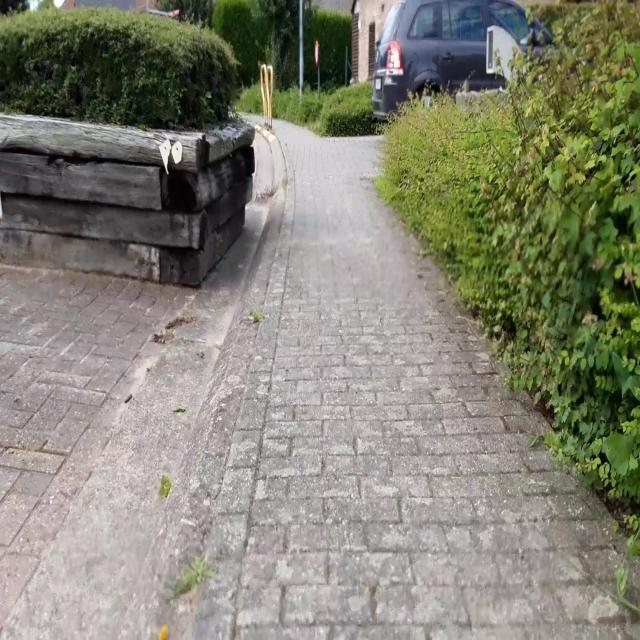Automobile: (373, 0, 551, 118)
Obstacle: (381, 0, 639, 553), (0, 114, 255, 286), (260, 64, 273, 129)
Road: (0, 191, 279, 639)
Sidewalk: (176, 128, 624, 639)
